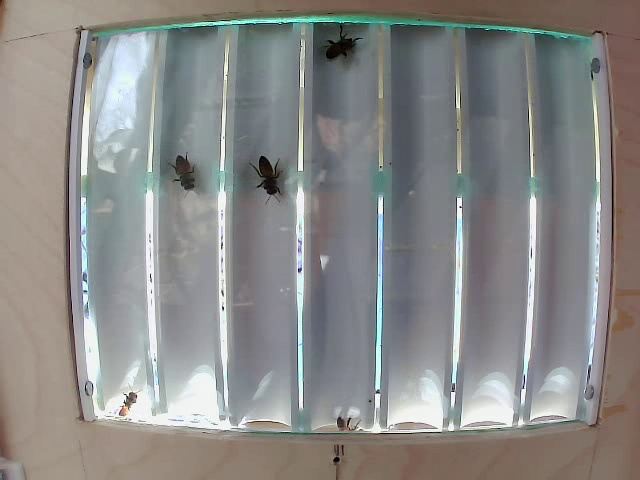bee: (240, 134, 306, 219), (166, 145, 216, 210), (330, 27, 363, 76)
